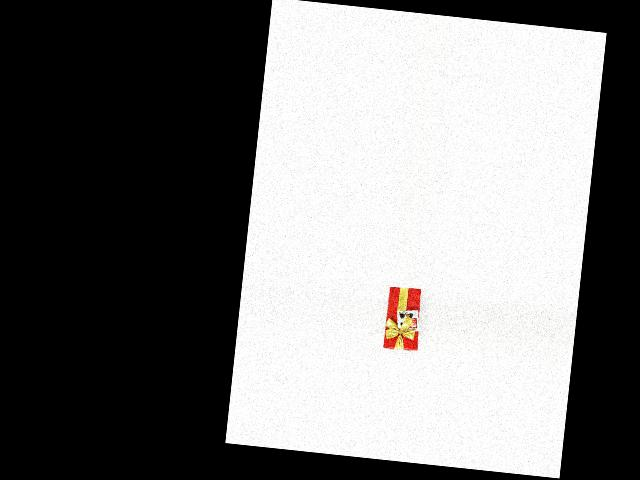chocolate: (380, 286, 423, 353)
